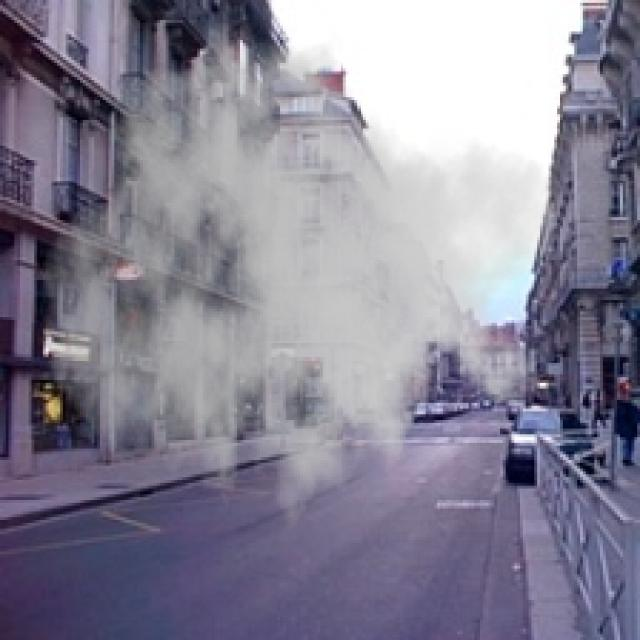smoke: (40, 9, 560, 552)
